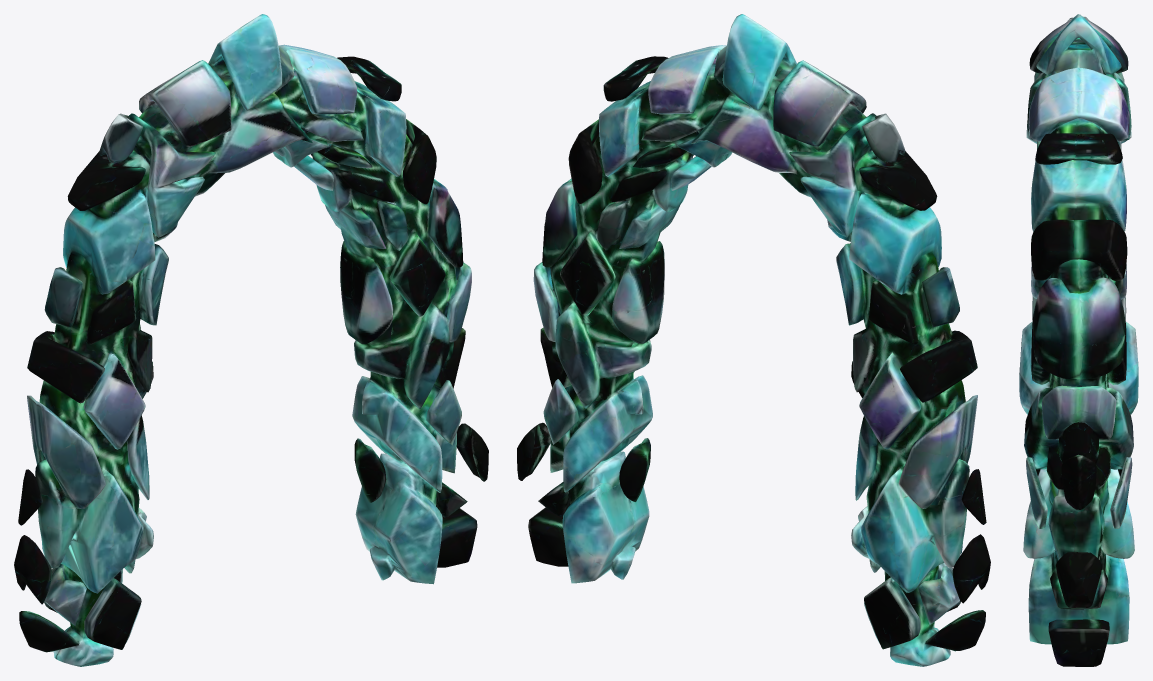
File: mini_tc19.glb
3 renders of one model, left to right at view 1: azimuth 30°, elevation 25°; view 2: azimuth 150°, elevation 25°; view 3: azimuth 270°, elevation 25°, orthographic. The views are drawn at different scales.
Bounding box in the file's own units: 1.56 × 1.9 × 0.3595.
1 material, 1 textured.
